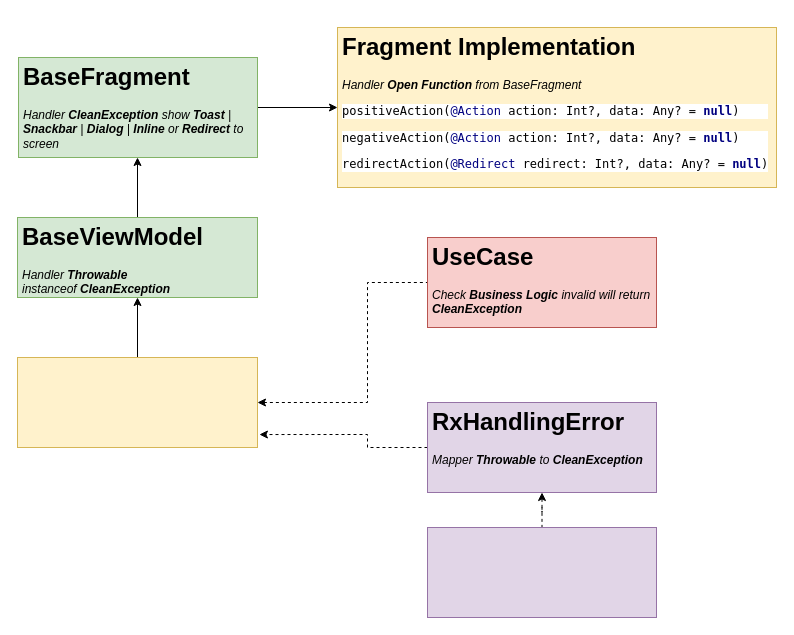
Some shapes in this 794 by 635 pixel diagram are drawn without their labels. Here are the shapes that lost their labels. From the top down, the centre of each, then its label:
[137,402]: ViewModel Rx -> .subscribe({}, { throwable -> setThrowable(it)})
[541,572]: RepositoryImpl Call API and listening response via RXCallAdapterFactory
